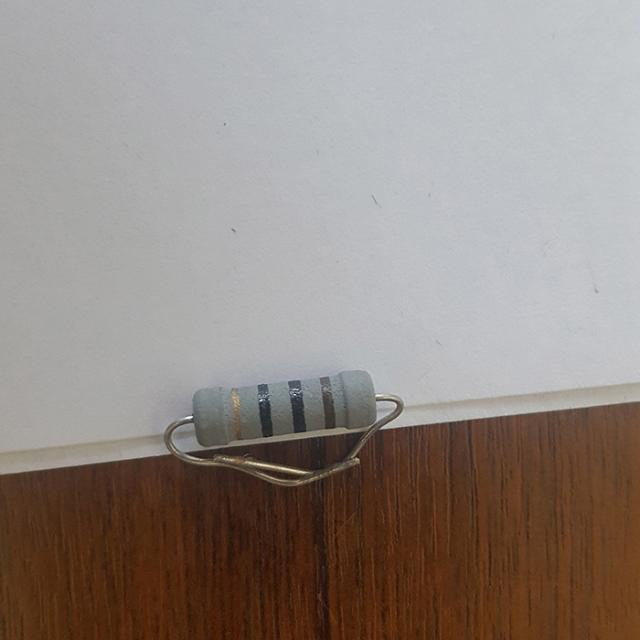black: (292, 383, 303, 427), (260, 388, 269, 431)
brown: (324, 379, 333, 425)
gold: (233, 389, 240, 435)
resistor: (180, 357, 390, 467)
